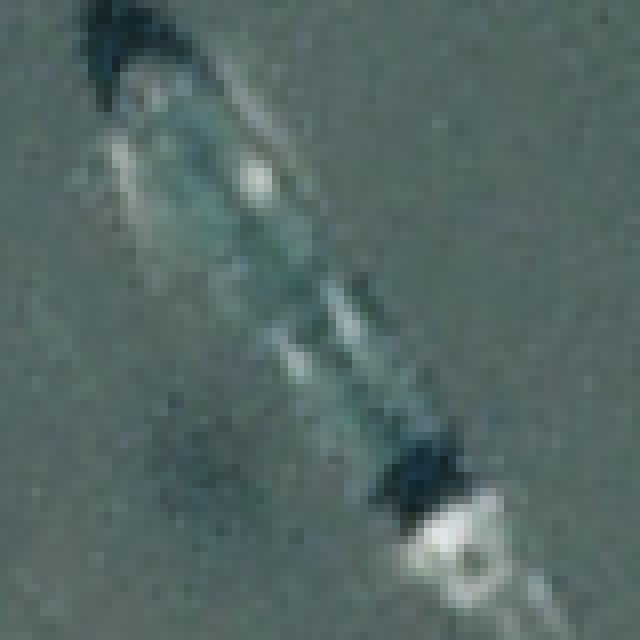ship: (69, 5, 575, 626)
